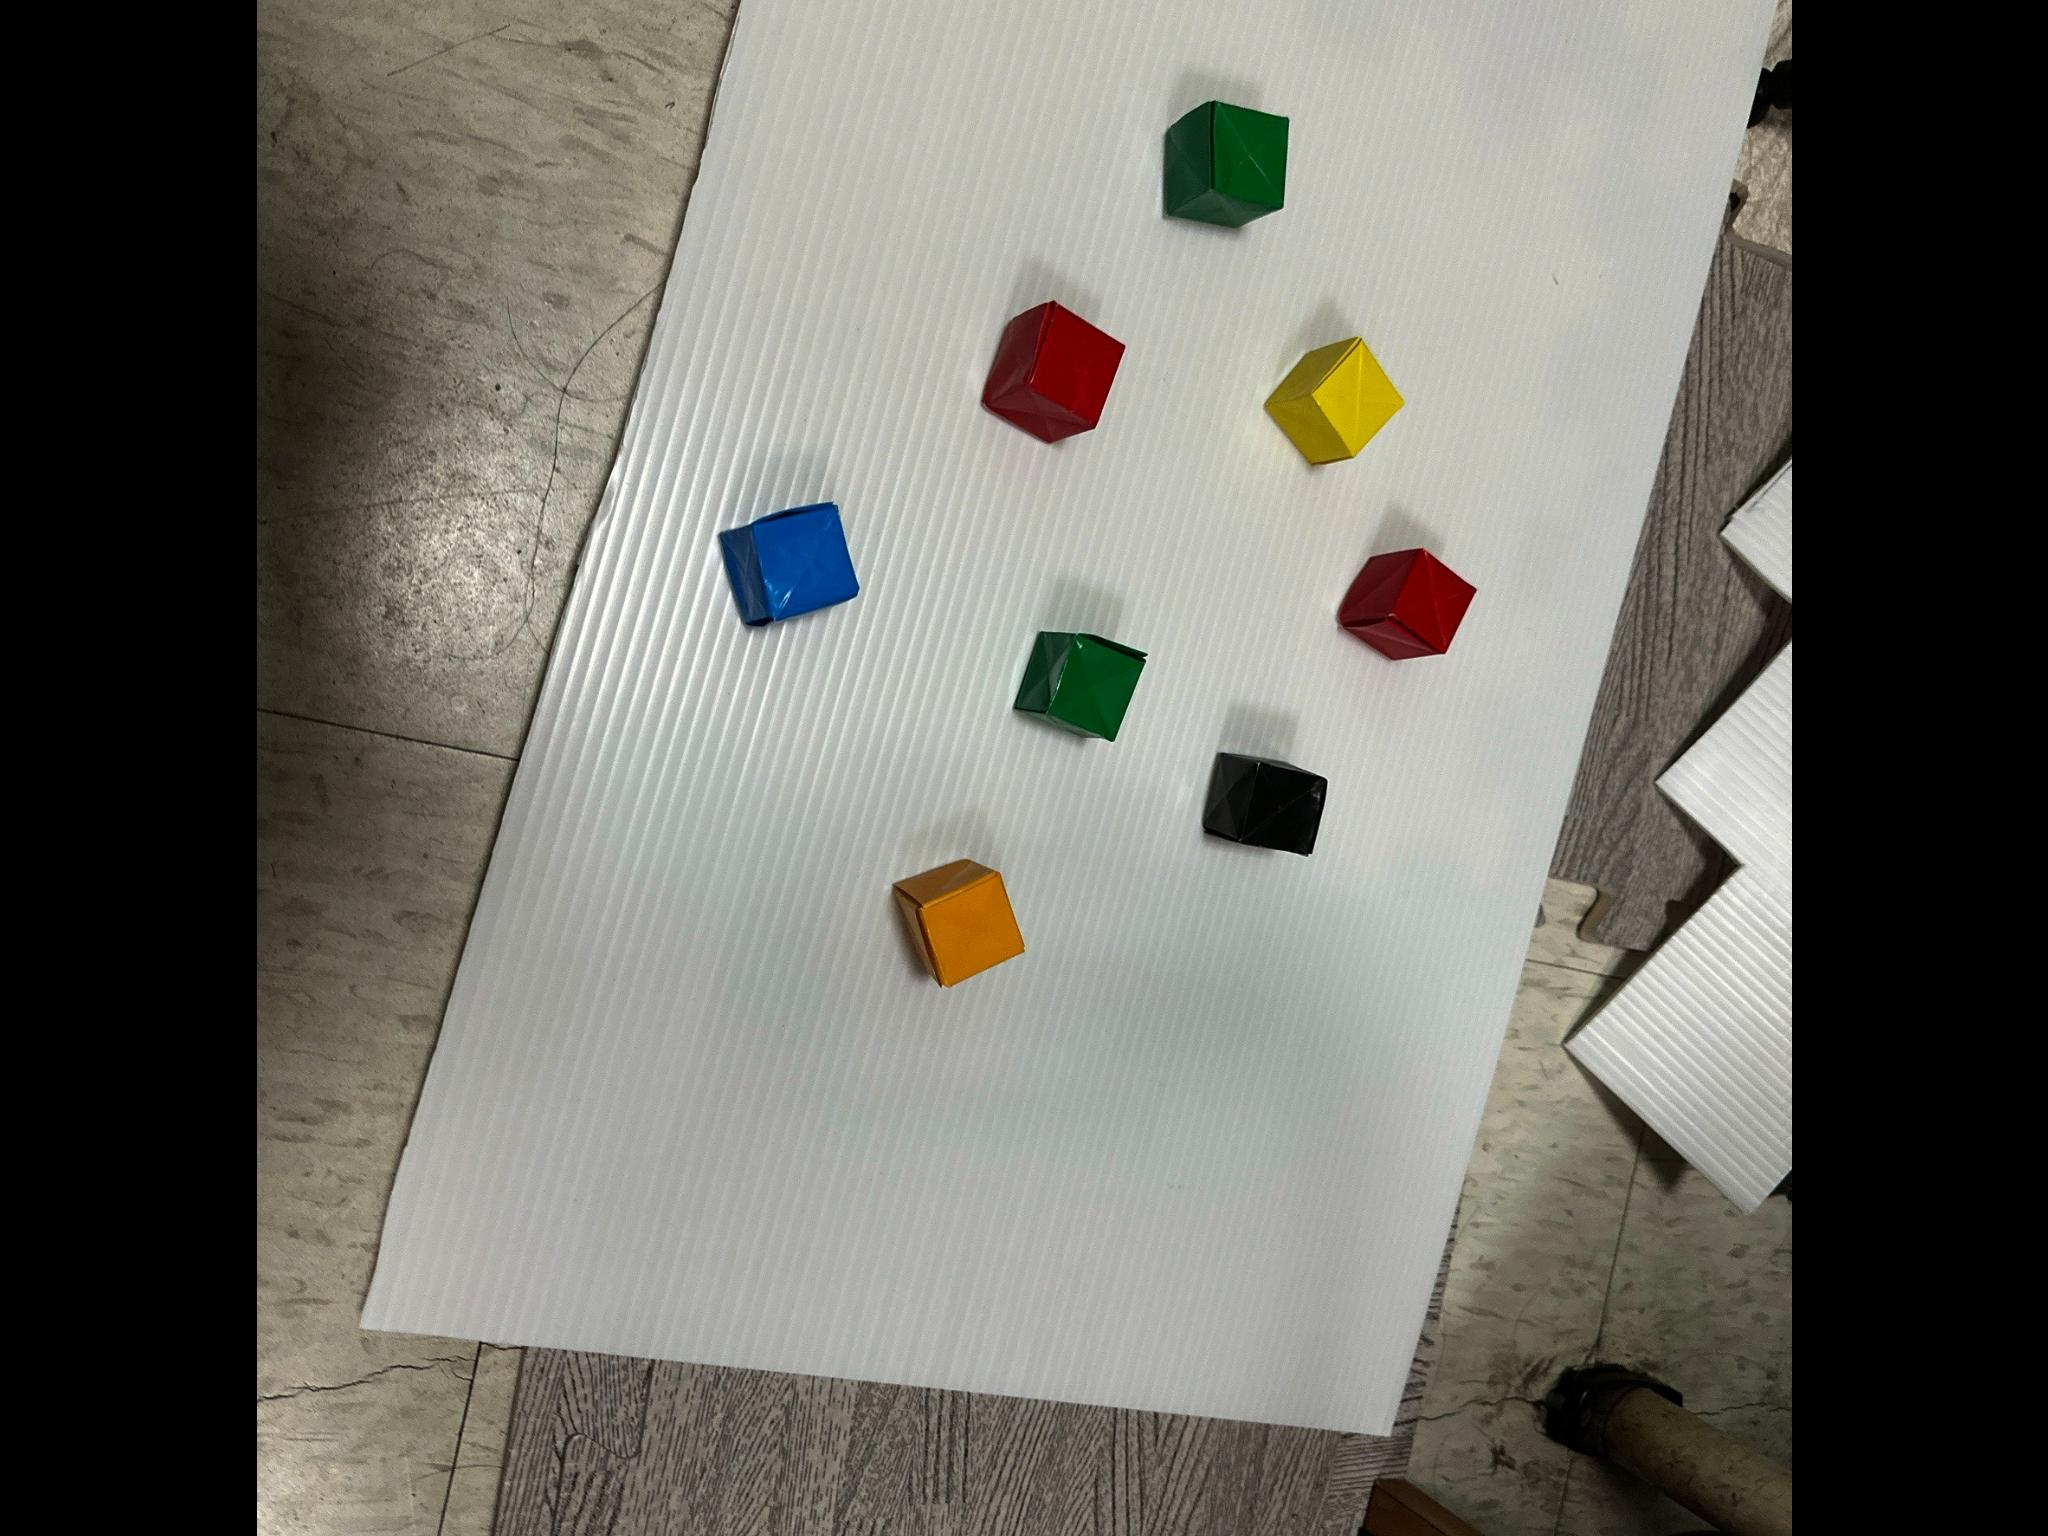cube: (982, 302, 1124, 442), (1266, 339, 1401, 466), (719, 503, 858, 626), (895, 860, 1022, 987), (1163, 103, 1288, 227), (1338, 549, 1474, 660), (1014, 632, 1143, 741), (1201, 753, 1326, 855)
